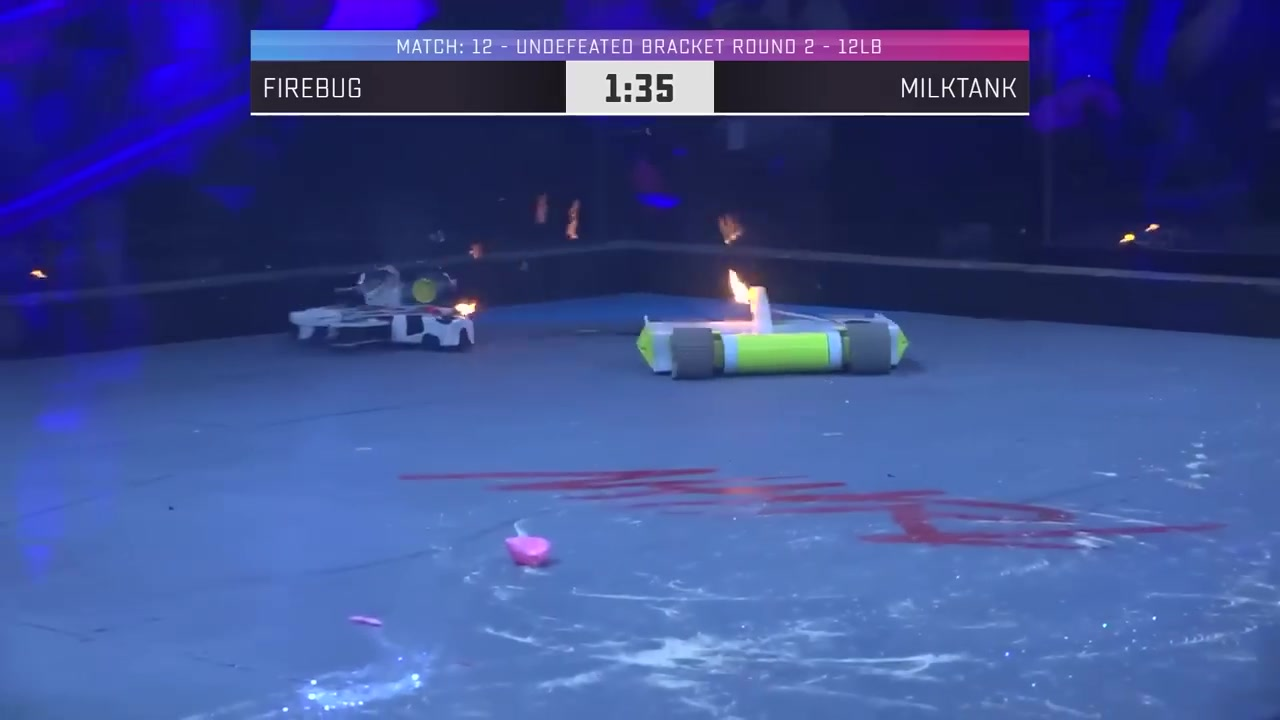combatbot: (637, 307, 909, 381), (292, 302, 477, 350)
debris: (507, 534, 546, 570)
